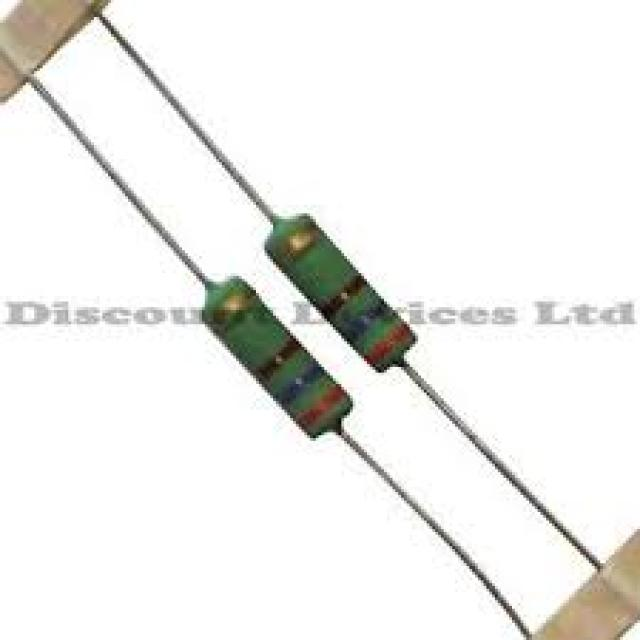Resistor: (198, 274, 352, 440), (266, 213, 416, 373)
